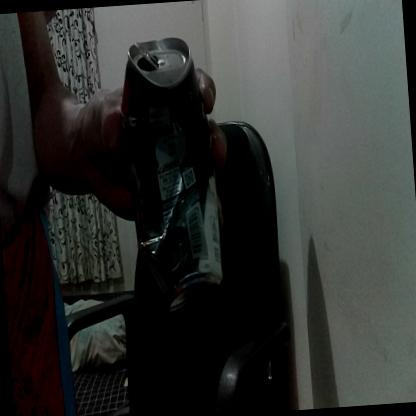alumunium_can: (116, 35, 228, 314)
